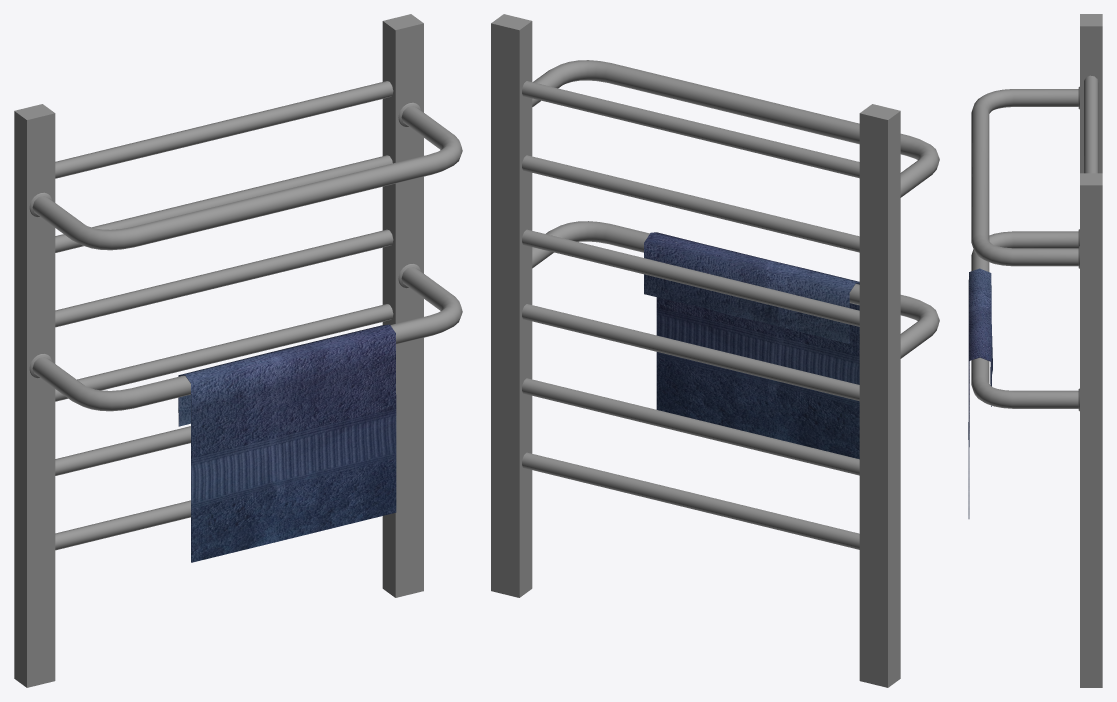
The model's file is BathStand01c.FBX.
The picture shows the model from 3 angles, left to right: view 1: azimuth 30°, elevation 25°; view 2: azimuth 150°, elevation 25°; view 3: azimuth 270°, elevation 25°; orthographic projection. The views are drawn at different scales.
Parts seen in each view (by area): view 1: BathStand01c, Towel02; view 2: BathStand01c, Towel02; view 3: BathStand01c, Towel02.
Part boxes in pixels (x1=…): BathStand01c: x1=14, y1=14, x2=462, y2=687; Towel02: x1=178, y1=324, x2=396, y2=562; BathStand01c: x1=491, y1=14, x2=939, y2=687; Towel02: x1=644, y1=232, x2=859, y2=459; BathStand01c: x1=971, y1=14, x2=1102, y2=687; Towel02: x1=968, y1=268, x2=992, y2=518.
Bounding box in the file's own units: 49.54 × 67.72 × 16.37.
